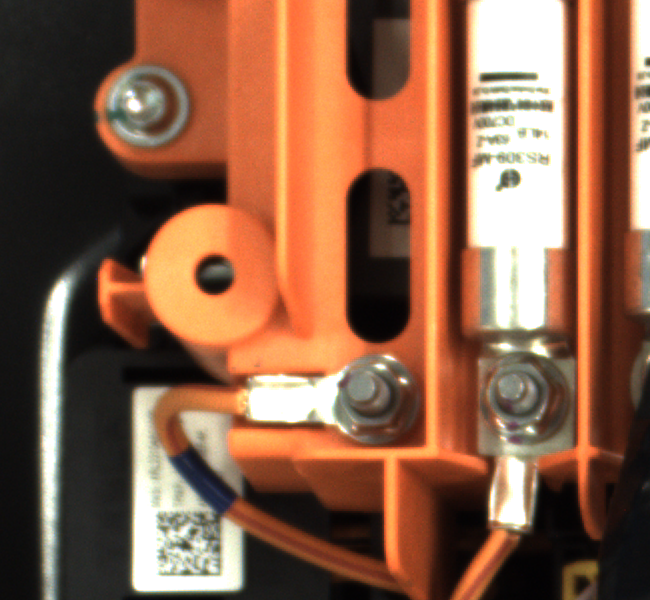screw_s: (468, 349, 586, 438), (327, 343, 418, 445)
